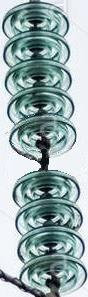gap: (8, 113, 80, 208)
